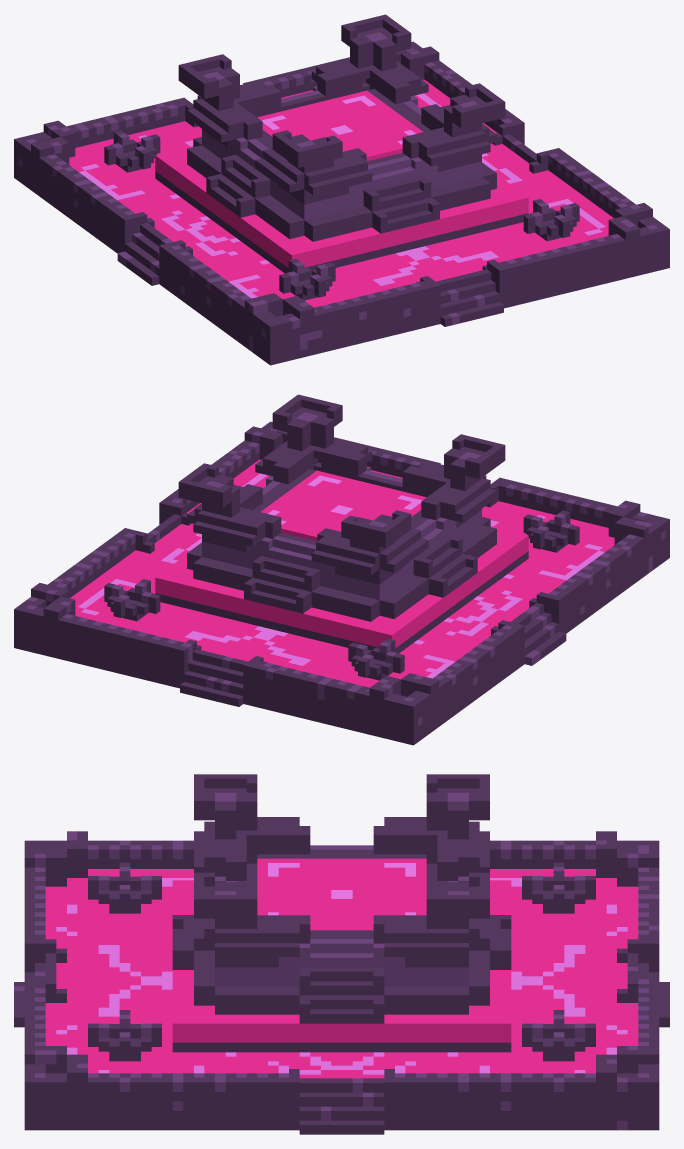
The model's file is Socle_Pink.obj.
The picture shows the model from 3 angles, top to bottom: view 1: azimuth 30°, elevation 25°; view 2: azimuth 150°, elevation 25°; view 3: azimuth 270°, elevation 25°; orthographic projection. The views are drawn at different scales.
Size of the model in its own units: 5.6 by 1.8 by 6.2.
1 material, 1 textured.
